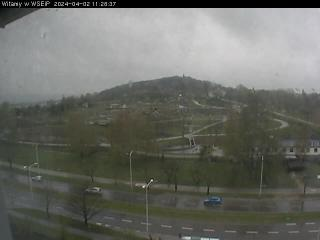car: (84, 186, 104, 196), (204, 195, 221, 206), (32, 174, 44, 183)
